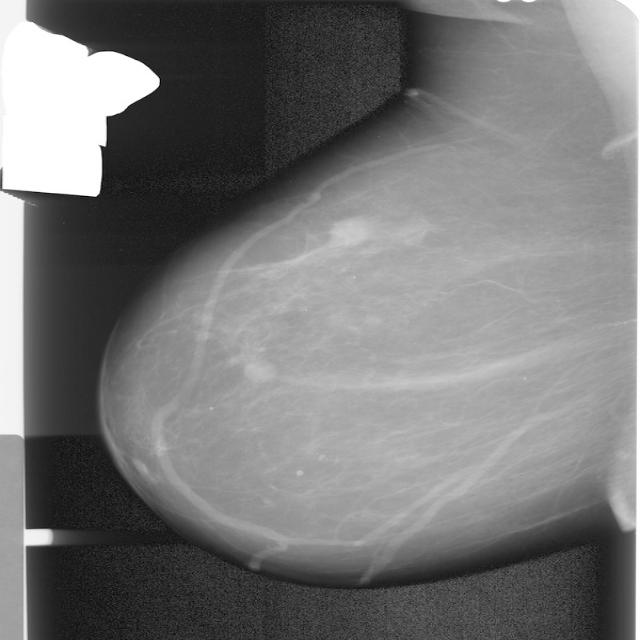tumour: (330, 217, 370, 246)
